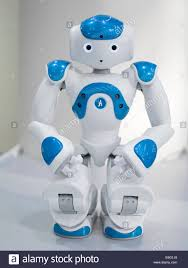nao: (26, 5, 178, 249)
